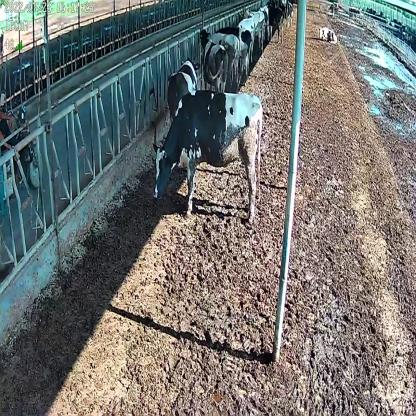cow: (151, 89, 263, 228), (166, 55, 200, 121), (199, 27, 228, 92), (317, 25, 338, 46)
